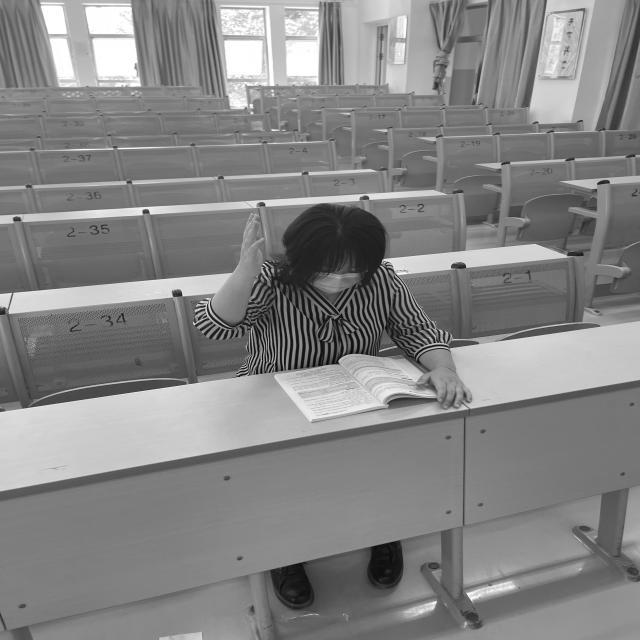study: (192, 207, 479, 412)
